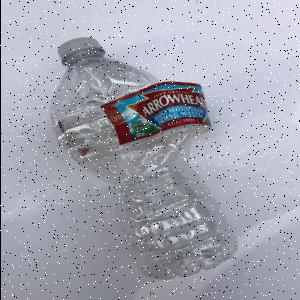Plastic-bottle: (49, 37, 241, 282)
